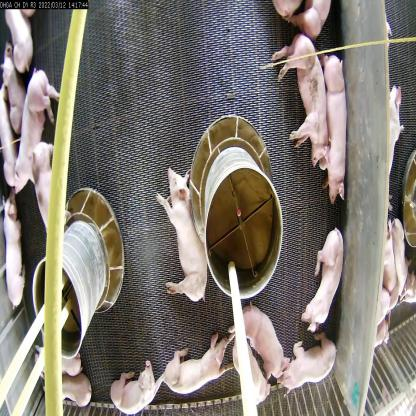Pig: (270, 34, 331, 172), (154, 165, 209, 306), (11, 63, 56, 194), (229, 295, 289, 384), (300, 222, 345, 337), (316, 53, 350, 204), (159, 329, 233, 395), (28, 138, 72, 248), (275, 332, 339, 395), (0, 185, 29, 316), (383, 73, 406, 215), (108, 359, 164, 415), (234, 333, 274, 411), (1, 43, 27, 140), (29, 342, 85, 384), (5, 7, 37, 78), (46, 371, 94, 410), (290, 0, 332, 39)
